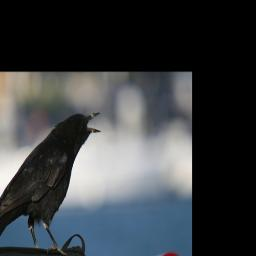Crow: (0, 109, 103, 256)
